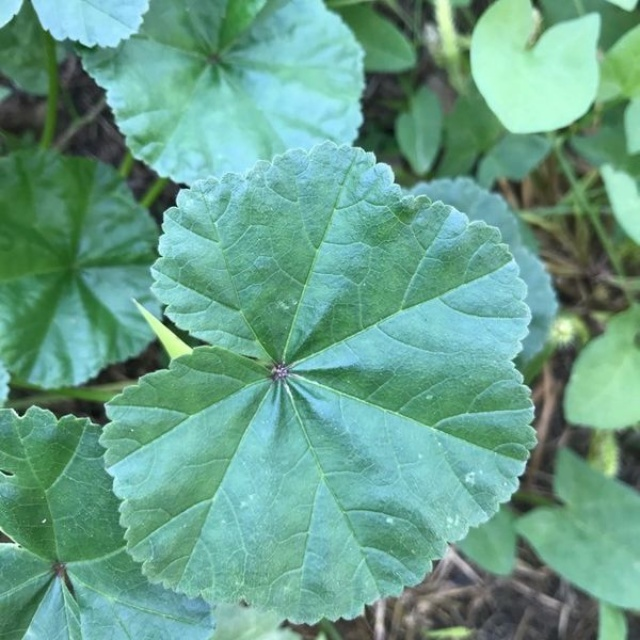obstacle: (17, 46, 502, 598)
